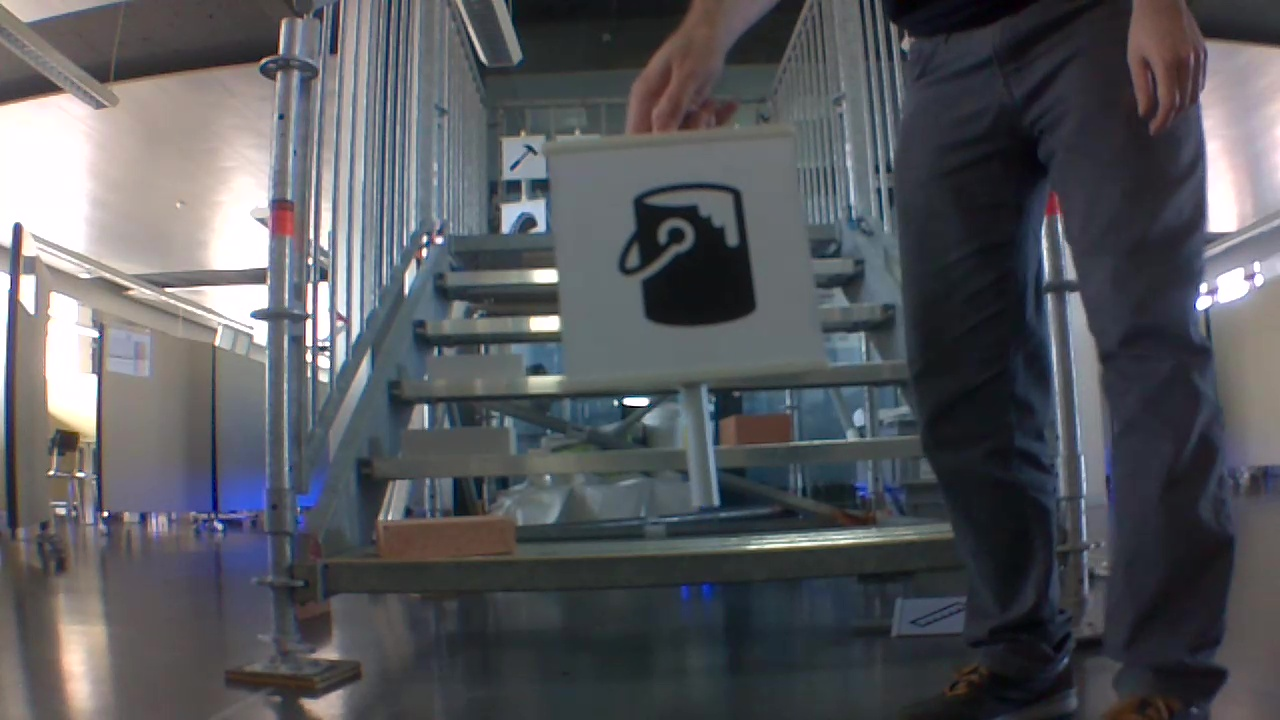brick: (377, 518, 513, 559), (404, 429, 515, 458), (428, 354, 522, 381), (720, 415, 791, 443)
bucket: (610, 177, 766, 332)
hammer: (505, 140, 541, 173)
taco: (503, 208, 541, 232)
